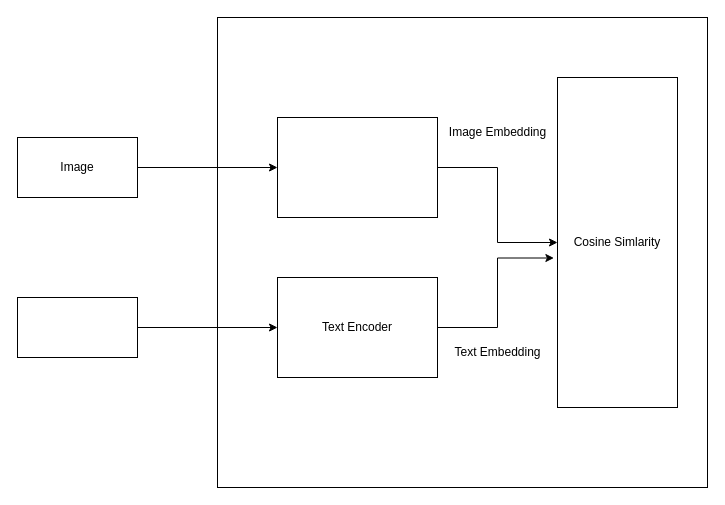
Some shapes in this 725 by 505 pixel diagram are drawn without their labels. Each missing label, with the centre of its shape:
"Text" belongs at point 77,327.
"ViT finetuned on Barcode data (Image Encoder)" belongs at point 357,167.
